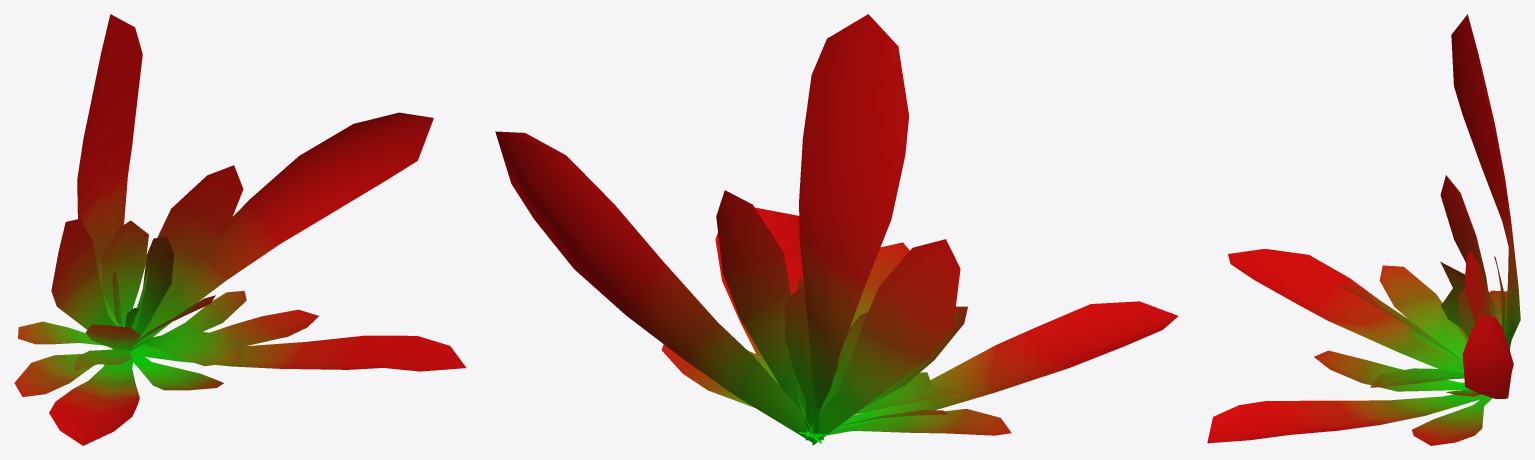
File: Var12_LOD0.fbx
3 renders of one model, left to right at view 1: azimuth 30°, elevation 25°; view 2: azimuth 150°, elevation 25°; view 3: azimuth 270°, elevation 25°, orthographic. The views are drawn at different scales.
Visible parts, largest first — view 1: _p1im_Var12_LOD0; view 2: _p1im_Var12_LOD0; view 3: _p1im_Var12_LOD0.
Boxes of the visible parts, <box> form: _p1im_Var12_LOD0: <box>14,14,466,445</box>; _p1im_Var12_LOD0: <box>495,14,1178,445</box>; _p1im_Var12_LOD0: <box>1207,14,1520,445</box>.
Size of the model in its own units: 20.56 by 15.2 by 11.73.
